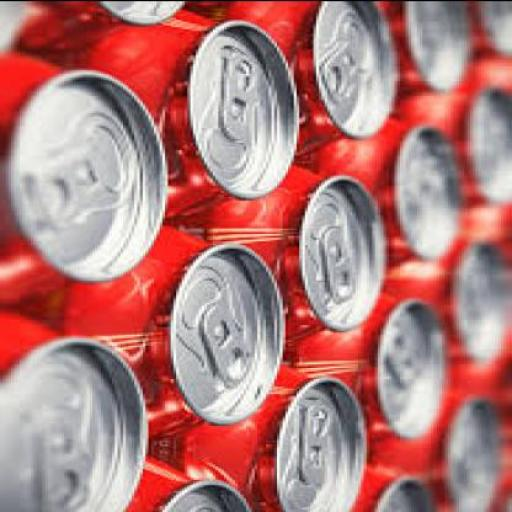metal: (20, 214, 296, 443), (44, 10, 306, 221), (3, 52, 173, 309), (176, 164, 391, 358), (216, 2, 402, 168), (170, 359, 370, 511), (2, 309, 152, 511), (305, 283, 462, 454), (308, 112, 468, 272), (377, 2, 476, 106), (126, 440, 262, 510), (3, 2, 188, 52), (363, 454, 441, 511)
